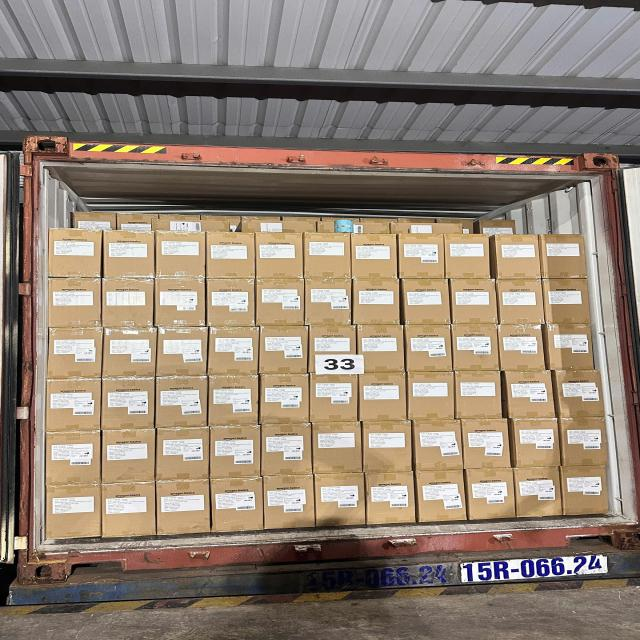Carton: (157, 479, 213, 536), (104, 481, 160, 538), (44, 484, 100, 540), (45, 431, 102, 486), (102, 428, 157, 484), (154, 426, 209, 480), (46, 378, 101, 432), (209, 476, 262, 532), (104, 379, 158, 433), (48, 328, 103, 381), (47, 276, 101, 328), (364, 472, 416, 526), (263, 476, 314, 531), (211, 426, 262, 481), (102, 277, 155, 329), (261, 424, 313, 477), (208, 376, 260, 429), (154, 379, 207, 431), (105, 329, 159, 380), (156, 327, 208, 379), (313, 423, 364, 476), (48, 230, 101, 281), (418, 470, 468, 524), (316, 474, 366, 528), (208, 326, 261, 376), (362, 419, 412, 472), (504, 370, 556, 420), (467, 469, 516, 522), (414, 419, 464, 470), (104, 230, 156, 279), (554, 372, 607, 420), (358, 372, 408, 422), (260, 374, 310, 424), (462, 418, 512, 468), (153, 277, 204, 326), (260, 326, 309, 376), (357, 324, 406, 374), (156, 232, 207, 280), (558, 467, 606, 518), (515, 468, 563, 519), (455, 371, 504, 420), (309, 374, 358, 423), (406, 371, 454, 421), (451, 324, 499, 374), (207, 278, 257, 326), (310, 326, 358, 376), (404, 326, 453, 374), (207, 234, 256, 282), (257, 234, 306, 282), (514, 418, 563, 466), (559, 417, 608, 465), (256, 278, 306, 325), (306, 234, 354, 282), (402, 278, 450, 325), (304, 278, 352, 325), (543, 278, 592, 324), (545, 326, 594, 372), (353, 278, 402, 324), (492, 237, 542, 282), (495, 278, 543, 324), (400, 236, 448, 282), (497, 326, 544, 372), (350, 233, 396, 280), (453, 278, 499, 324), (444, 236, 490, 282), (543, 236, 590, 281)
